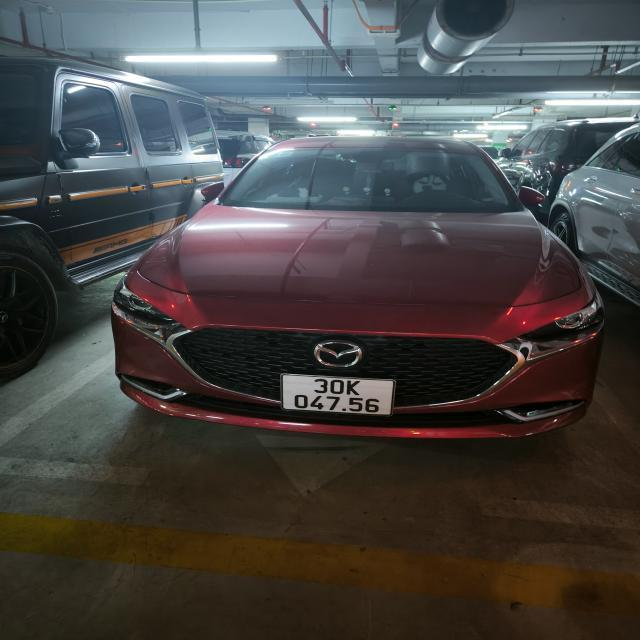license: (279, 373, 395, 417)
